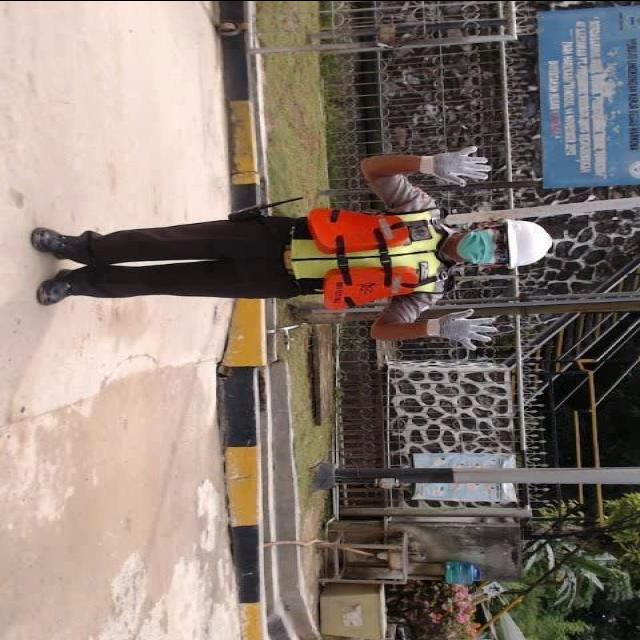helmet: (498, 214, 570, 270)
